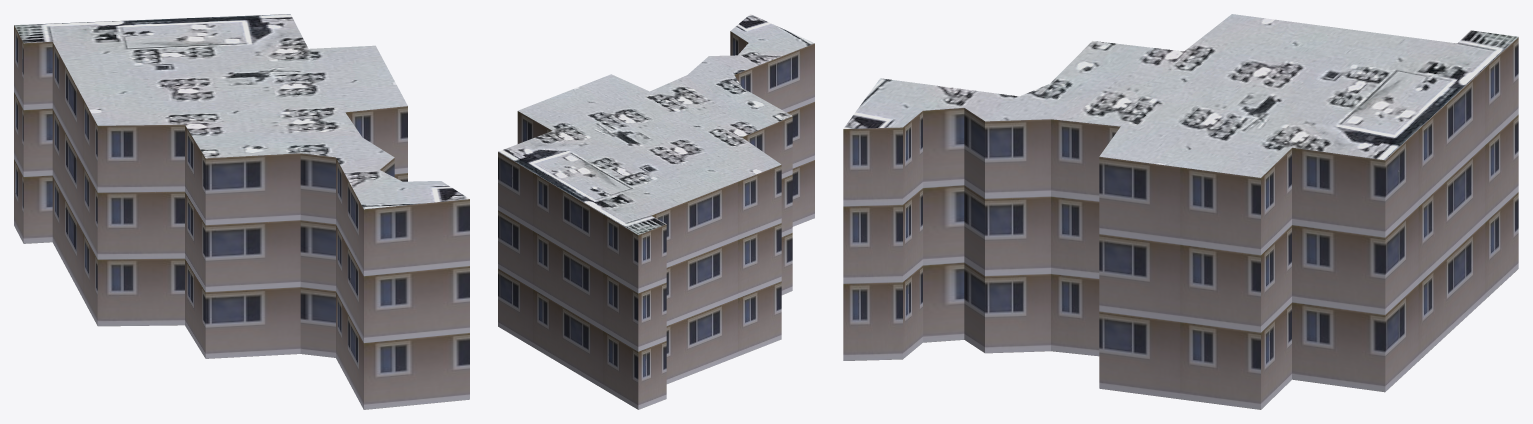
Rendered from ResTex__2664.fbx.
The picture shows the model from 3 angles, left to right: view 1: azimuth 30°, elevation 25°; view 2: azimuth 150°, elevation 25°; view 3: azimuth 270°, elevation 25°; orthographic projection. The views are drawn at different scales.
Visible parts, largest first — view 1: CityEngineMaterial_21_m, CityEngineMaterial_m; view 2: CityEngineMaterial_21_m, CityEngineMaterial_m; view 3: CityEngineMaterial_21_m, CityEngineMaterial_m.
Boxes of the visible parts, left/top/right/bottom form: CityEngineMaterial_21_m: left=14, top=25, right=469, bottom=409; CityEngineMaterial_m: left=14, top=14, right=469, bottom=209; CityEngineMaterial_21_m: left=498, top=31, right=814, bottom=409; CityEngineMaterial_m: left=498, top=14, right=814, bottom=234; CityEngineMaterial_21_m: left=843, top=37, right=1518, bottom=409; CityEngineMaterial_m: left=843, top=14, right=1518, bottom=177.
Bounding box in the file's own units: 13.63 × 9 × 23.74.
2 materials, 2 textured.
